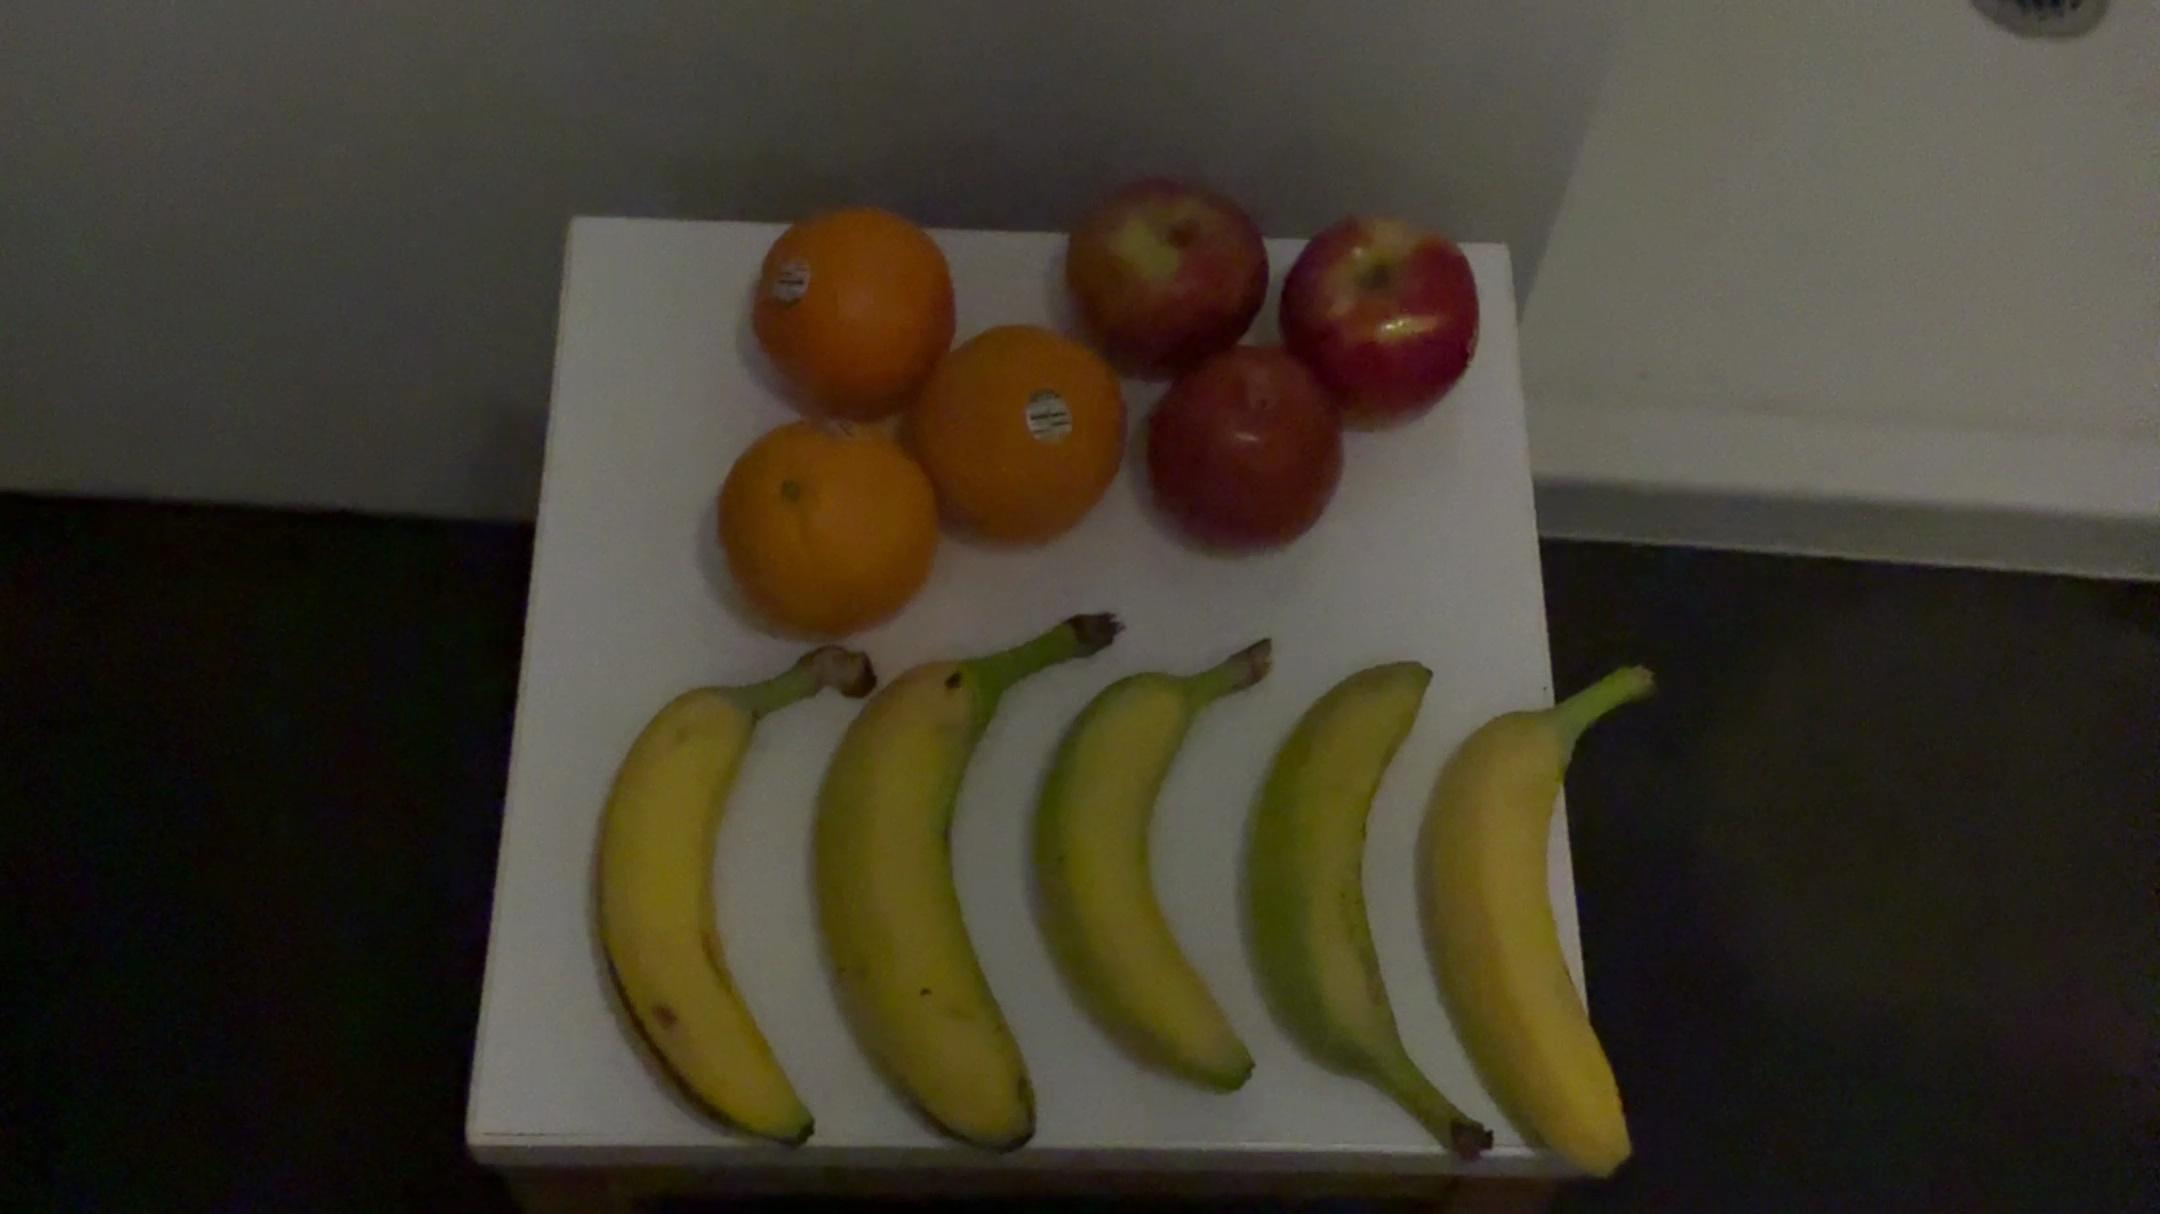apple: (1133, 344, 1351, 577), (1268, 186, 1472, 424), (1067, 165, 1268, 374)
banana: (809, 611, 1110, 1172), (1421, 643, 1705, 1207), (579, 641, 874, 1161), (1234, 646, 1498, 1184), (1041, 617, 1285, 1125)
orange: (711, 419, 946, 646), (909, 313, 1127, 555), (743, 193, 952, 420)
